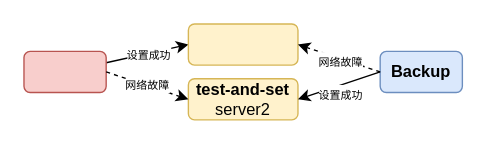
Image size: 486x144. Some labels were removed from this diagram. Each missing label, with the box of its shape:
Primary: (23, 50, 106, 92)
test-and-set server1: (187, 23, 298, 65)
